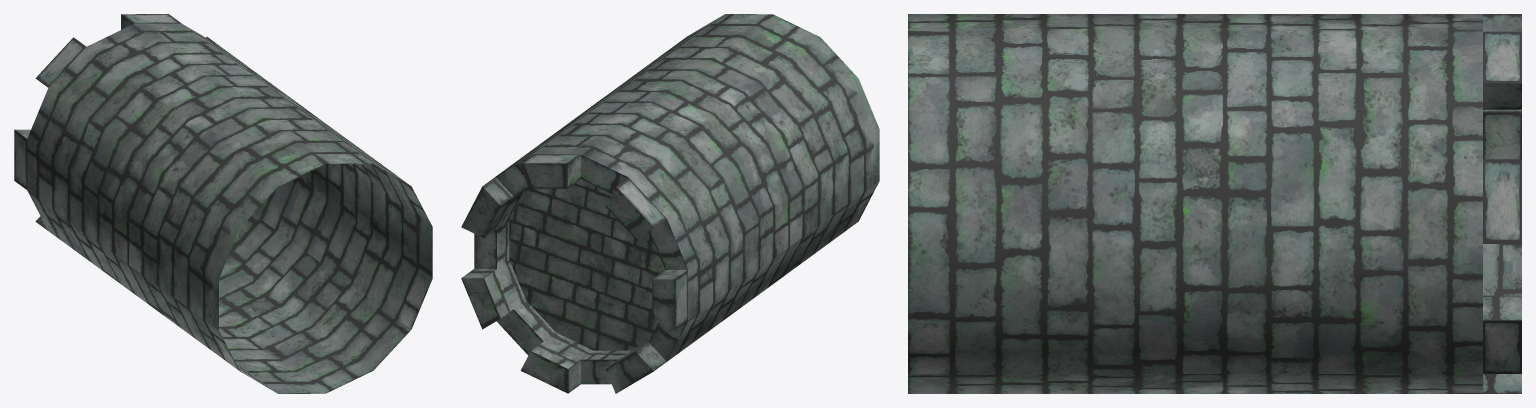
Rendered from Stone_Gate_04.fbx.
3 views of the same model, side by side, from view 1: azimuth 30°, elevation 25°; view 2: azimuth 150°, elevation 25°; view 3: azimuth 270°, elevation 25° (orthographic). The views are drawn at different scales.
Visible parts, largest first — view 1: Stone_Gate_04; view 2: Stone_Gate_04; view 3: Stone_Gate_04.
Part boxes in pixels (bbox=[...]): Stone_Gate_04: bbox=[14, 14, 432, 393]; Stone_Gate_04: bbox=[461, 14, 879, 393]; Stone_Gate_04: bbox=[908, 14, 1521, 393].
Size of the model in its own units: 701 by 719 by 1161.
